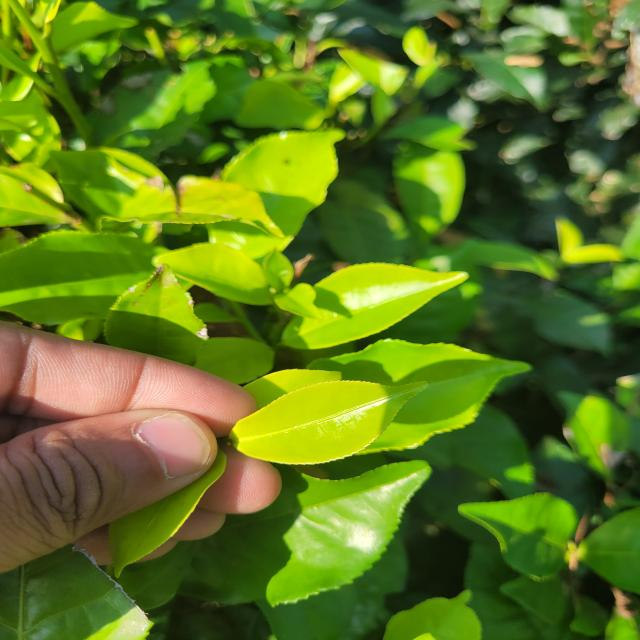Catagory A(1-2 days): (217, 363, 443, 477)
